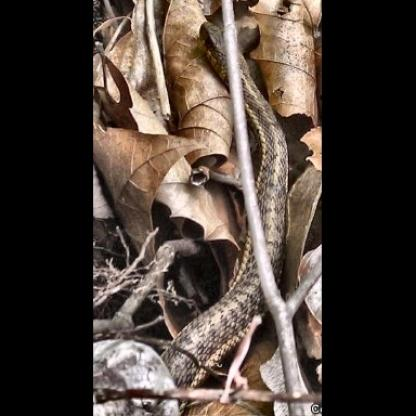Snake: (176, 19, 288, 382)
